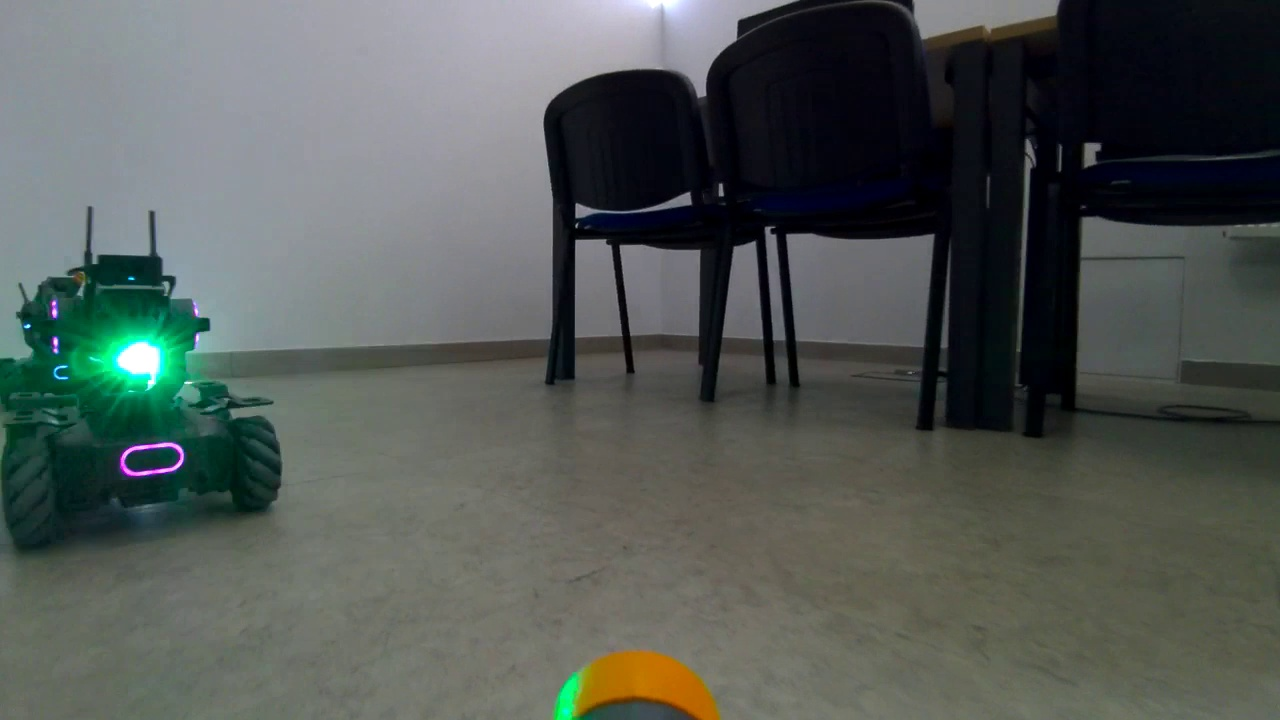robot: (1, 245, 288, 543)
